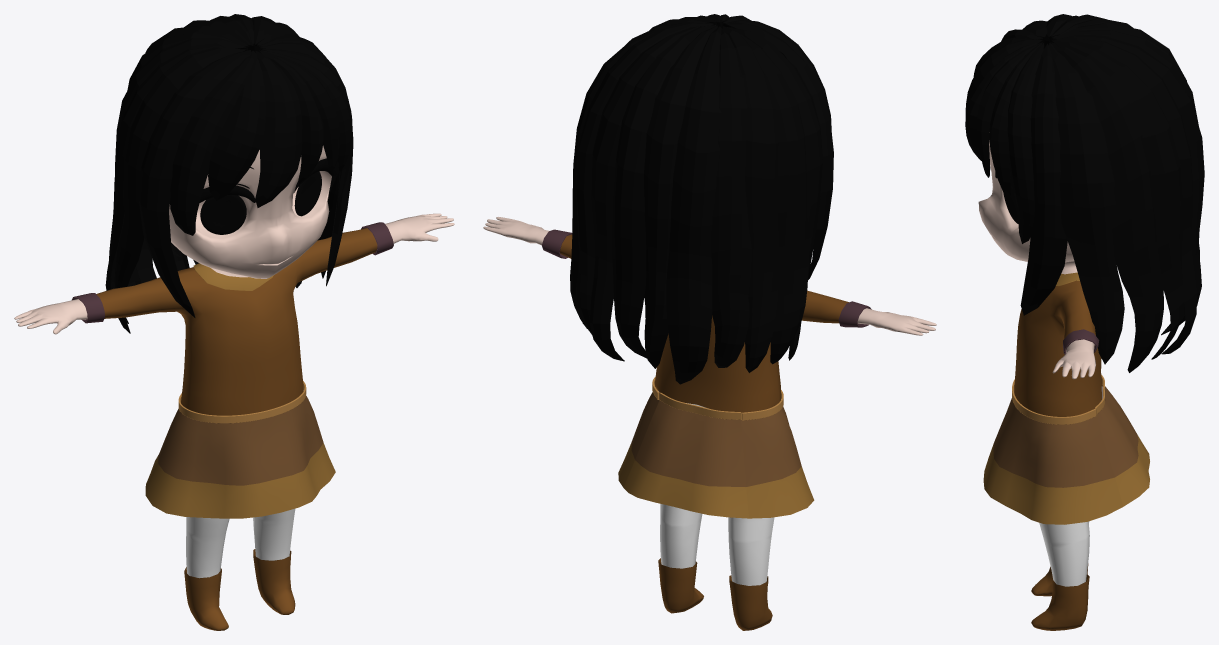
3 renders of one model, left to right at view 1: azimuth 30°, elevation 25°; view 2: azimuth 150°, elevation 25°; view 3: azimuth 270°, elevation 25°, orthographic. The views are drawn at different scales.
Visible parts, largest first — view 1: SD; view 2: SD; view 3: SD.
Boxes of the visible parts, box(x1,y1,x2,y2) form: SD: box(14, 14, 454, 630); SD: box(483, 14, 936, 630); SD: box(965, 14, 1204, 630).
Size of the model in its own units: 74.83 by 94.5 by 35.4.
